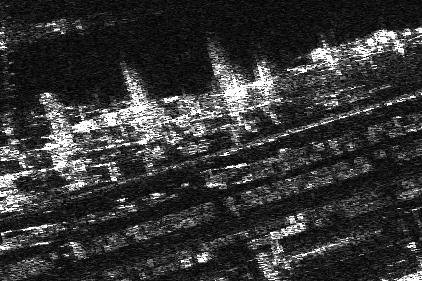ship: (72, 94, 180, 136)
